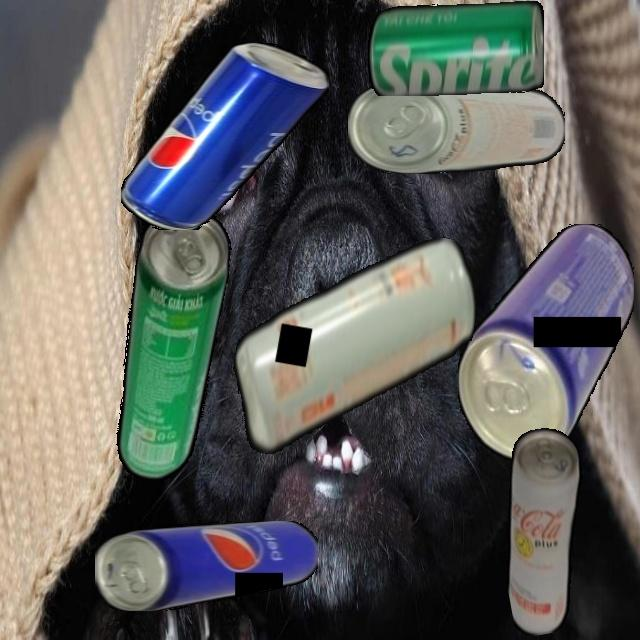debris: (220, 206, 488, 485), (457, 223, 634, 460), (121, 41, 329, 230), (100, 203, 238, 487), (482, 423, 609, 639), (348, 79, 565, 174), (95, 520, 318, 611), (367, 0, 544, 96)
